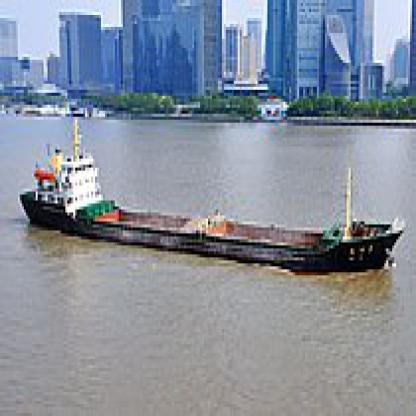Container Ship: (18, 117, 405, 274)
